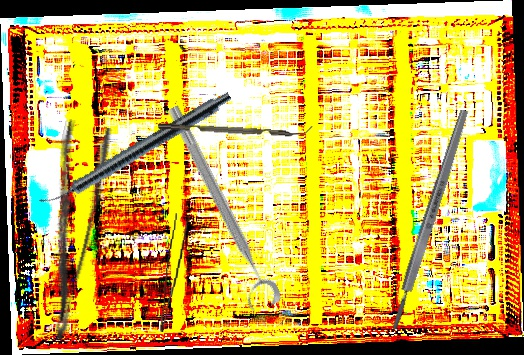Chopper: (157, 115, 314, 140)
Dressing Forceps: (17, 118, 116, 343)
Fixation Ring: (151, 102, 284, 316)
Handpiece: (37, 85, 234, 215)
Scalpel Handle: (387, 108, 472, 331)
Tissue Forceps: (159, 212, 190, 334)
